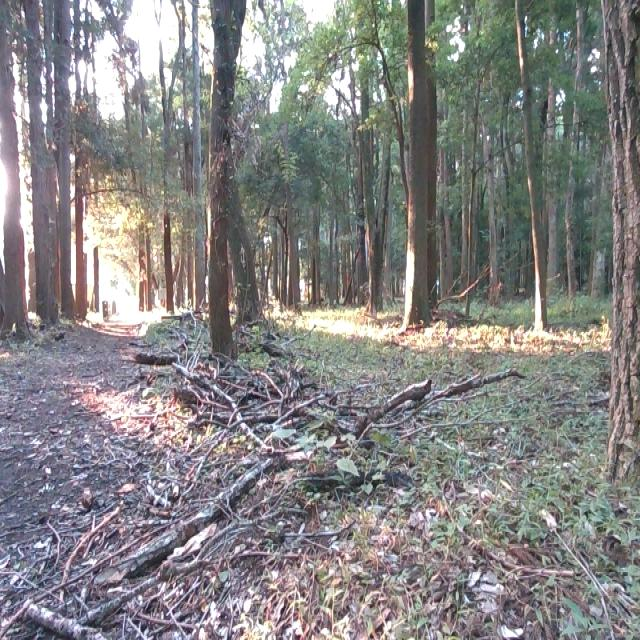tree: (195, 0, 260, 365), (595, 0, 640, 493), (388, 0, 444, 335), (352, 0, 396, 321), (516, 0, 558, 332), (25, 0, 63, 319), (0, 0, 30, 332), (55, 0, 85, 325), (160, 106, 178, 313), (280, 199, 305, 316)
